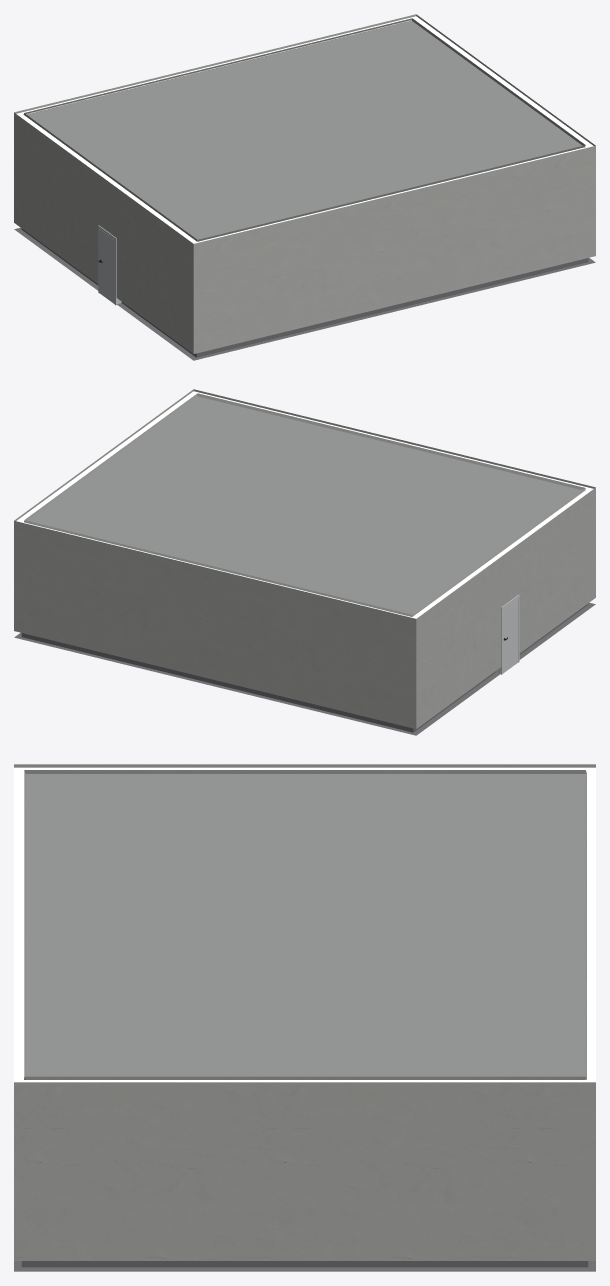
3 views of the same model, one above another, from view 1: azimuth 30°, elevation 25°; view 2: azimuth 150°, elevation 25°; view 3: azimuth 270°, elevation 25° (orthographic). The views are drawn at different scales.
Visible parts, largest first — view 1: floor, ceilling, gray, light, Door; view 2: floor, ceilling, gray, light, Door; view 3: ceilling, floor, light, gray.
Boxes of the visible parts, x1,y1,x2,y2 form: floor: (14, 14, 595, 353); ceilling: (27, 20, 582, 239); gray: (14, 227, 595, 360); light: (16, 16, 593, 243); Door: (99, 229, 114, 303); floor: (14, 389, 595, 728); ceilling: (27, 396, 581, 614); gray: (14, 602, 595, 735); light: (16, 391, 593, 618); Door: (503, 598, 517, 672); ceilling: (25, 774, 585, 1076); floor: (14, 764, 595, 1260); light: (14, 767, 595, 1082); gray: (14, 1261, 595, 1271).
Bounding box in the file's own units: 66.35 × 18.46 × 50.99.
Materials: 7 (2 with a texture image).
